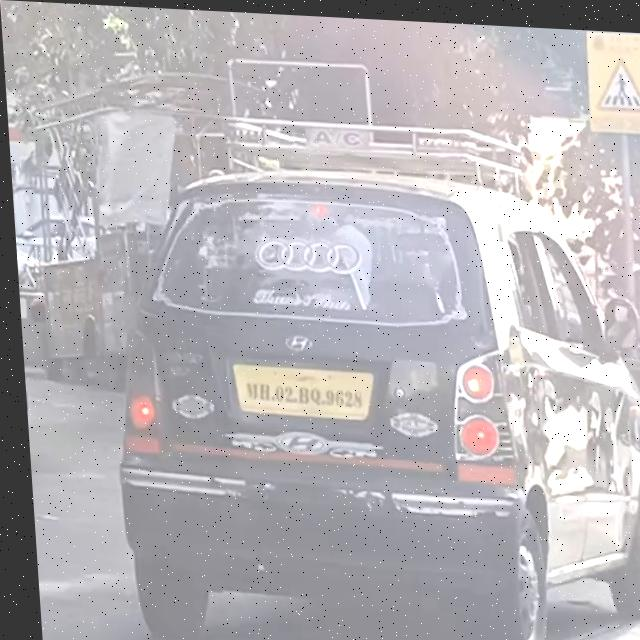plate: (225, 360, 373, 417)
